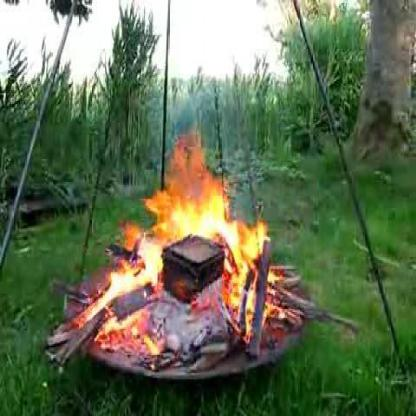fire: (50, 107, 318, 366)
